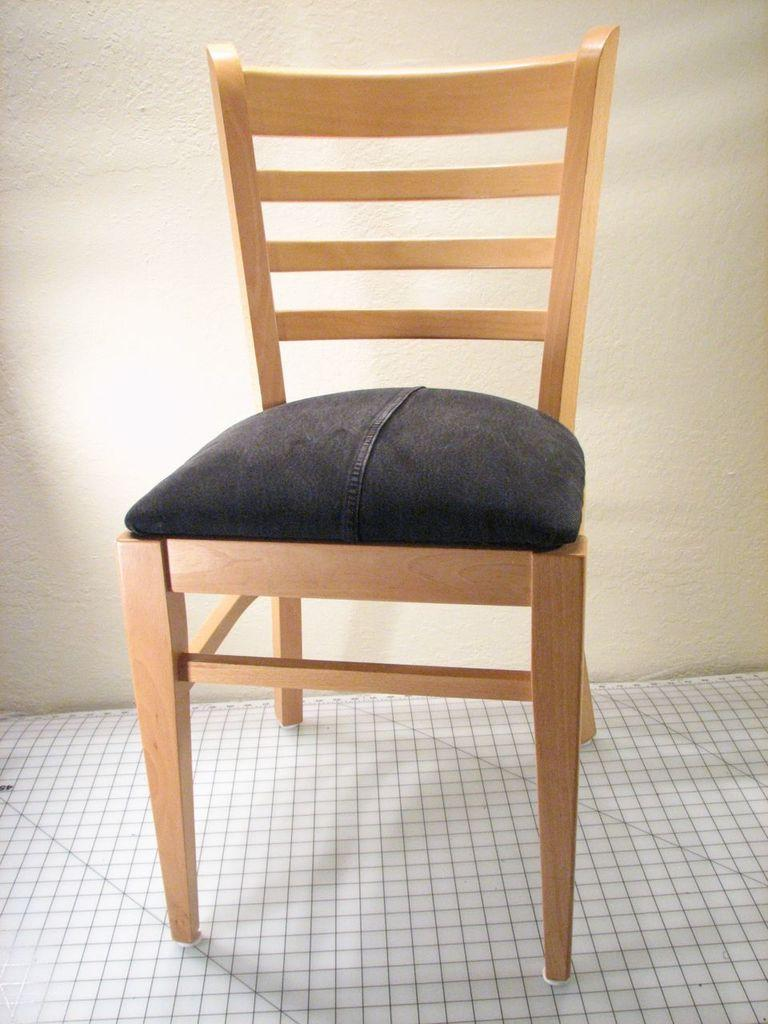Chair: (110, 25, 629, 991)
